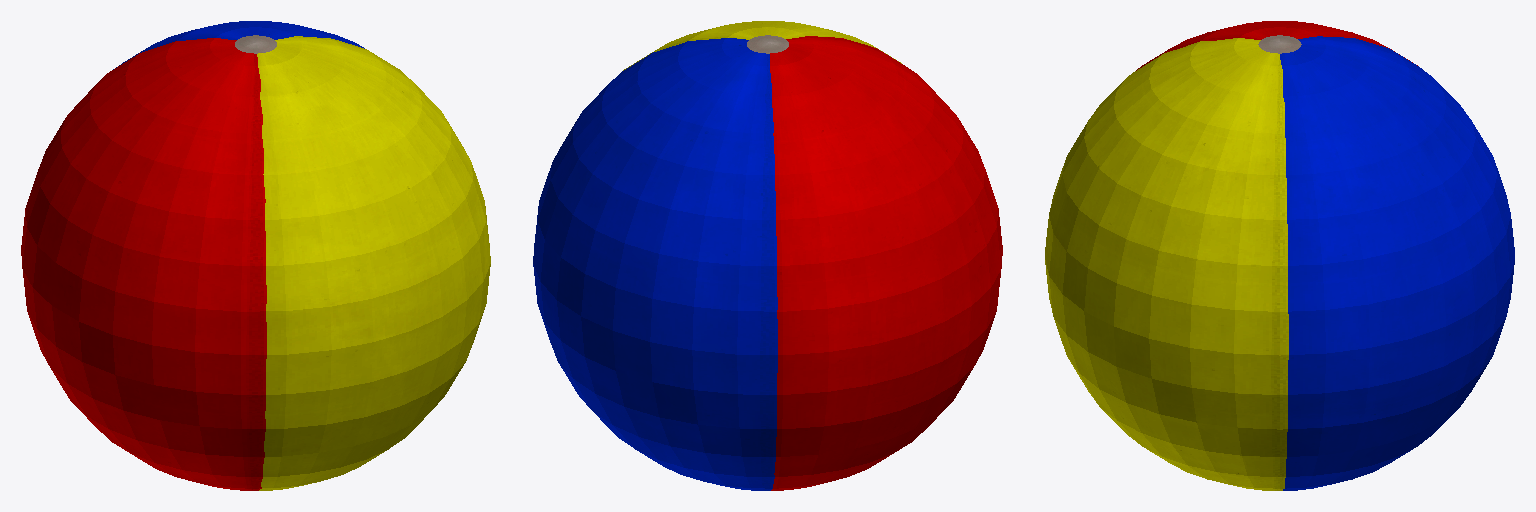
The picture shows the model from 3 angles: view 1: azimuth 30°, elevation 25°; view 2: azimuth 150°, elevation 25°; view 3: azimuth 270°, elevation 25°; orthographic projection.
Visible parts, largest first — view 1: Sphere; view 2: Sphere; view 3: Sphere.
Part boxes in pixels (x1,y1,x2,y2): Sphere: (21, 21, 490, 490); Sphere: (533, 21, 1002, 490); Sphere: (1045, 21, 1514, 490).
Size of the model in its own units: 2 by 2 by 2.
Materials: 1 (1 with a texture image).